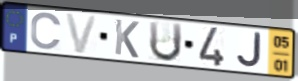4: (197, 25, 227, 68)
C: (29, 11, 64, 52)
J: (235, 31, 264, 70)
K: (113, 17, 141, 60)
U: (148, 20, 184, 64)
V: (63, 12, 100, 56)
